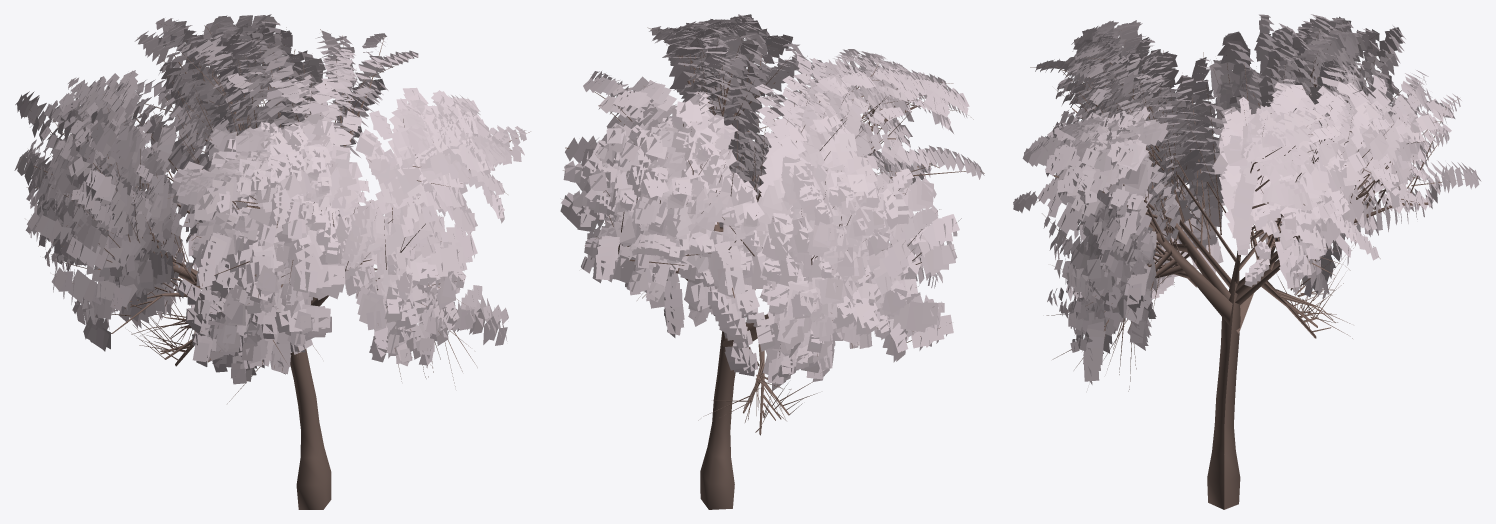
Rendered from sakura-natural-compact.glb.
3 renders of one model, left to right at view 1: azimuth 30°, elevation 25°; view 2: azimuth 150°, elevation 25°; view 3: azimuth 270°, elevation 25°, orthographic. The views are drawn at different scales.
Bounding box in the file's own units: 8.61 × 9.2 × 9.33.
